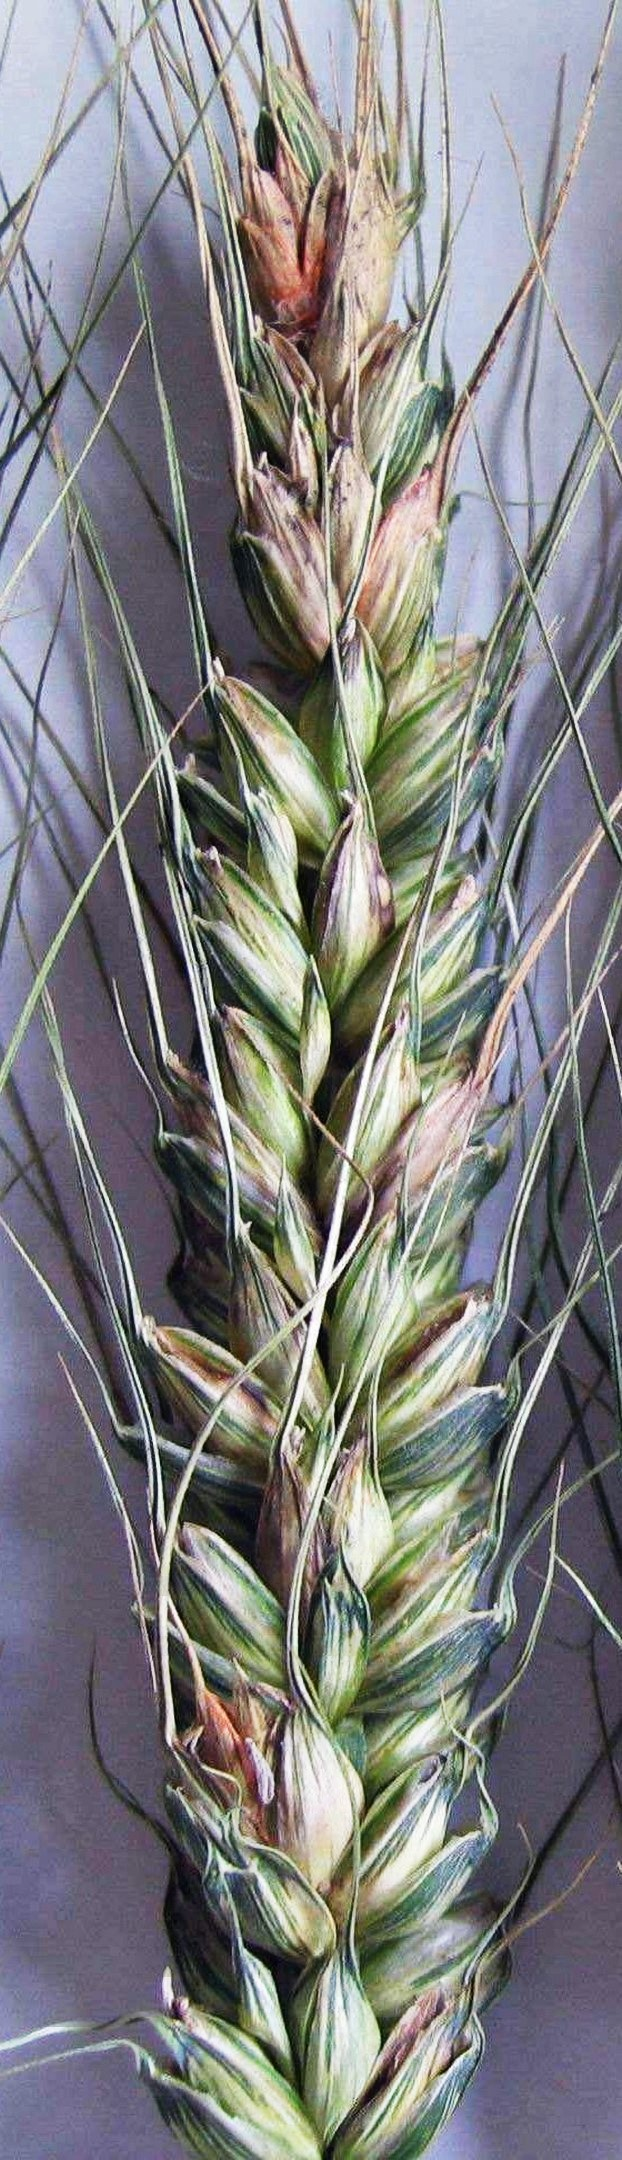Wheat scab: (83, 84, 526, 2154)
